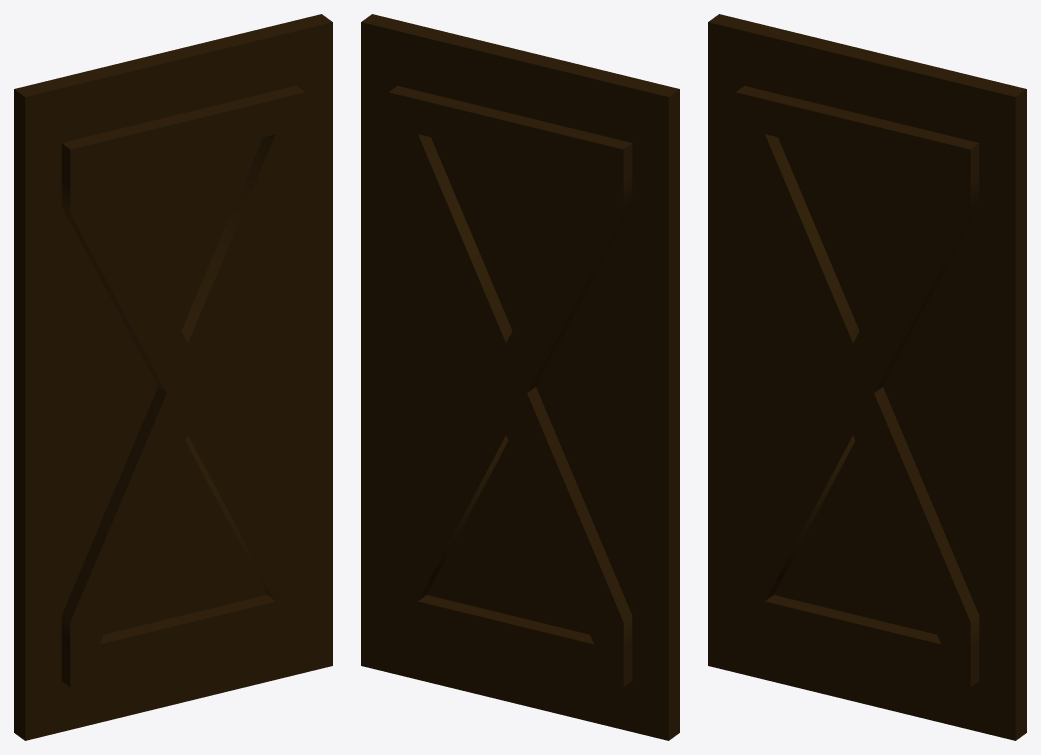
File: puerta.fbx
3 views of the same model, side by side, from view 1: azimuth 30°, elevation 25°; view 2: azimuth 150°, elevation 25°; view 3: azimuth 330°, elevation 25° (orthographic).
Visible parts, largest first — view 1: pCube4; view 2: pCube4; view 3: pCube4.
Part boxes in pixels (x1,y1,x2,y2): pCube4: (14, 14, 332, 740); pCube4: (361, 14, 679, 740); pCube4: (708, 14, 1026, 740).
Bounding box in the file's own units: 4 × 8 × 0.65.
